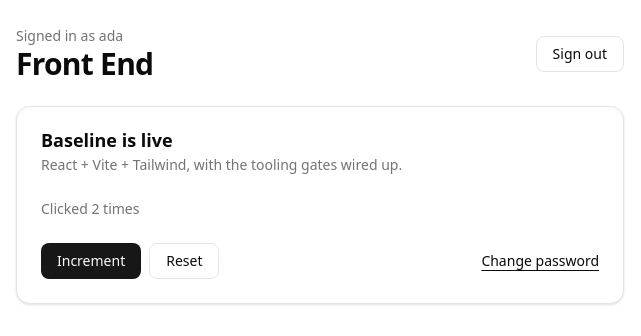
it: Showcase › reports a refused counter update as permission denied and keeps the session
Click the button "Increment": (91, 261) [41,243,141,279]
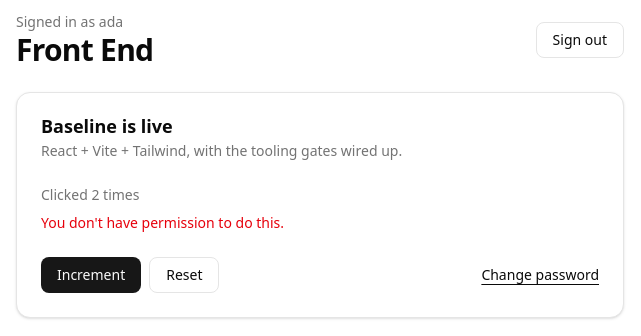
Expected: the text with test id "count" reads "Clicked 2 times", [41,185,139,204]
Expected: the message reads "You don't have permission to do this.", [41,213,284,232]
